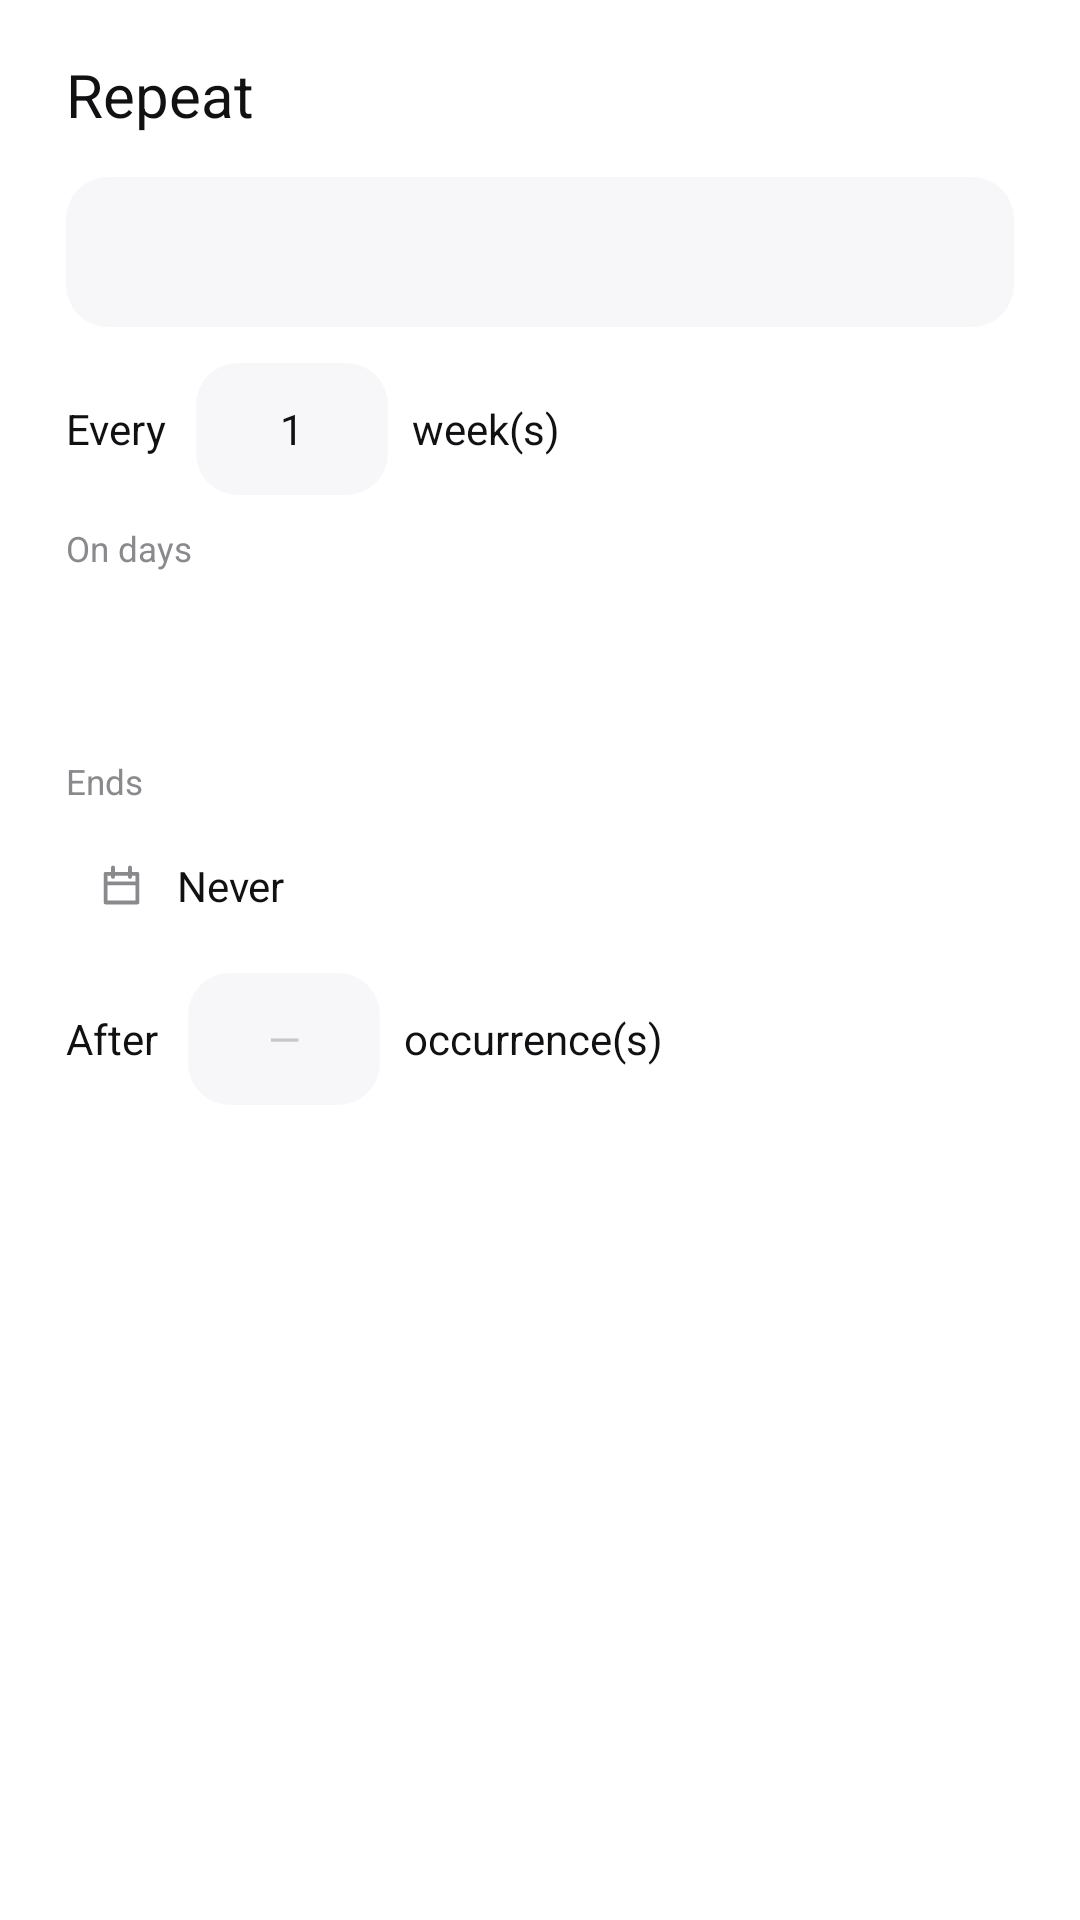

Screen size 1080×1920. Icon name, then its box in pixels as (x1, y1, x2, y2):
calendar: (103, 865, 140, 905)
